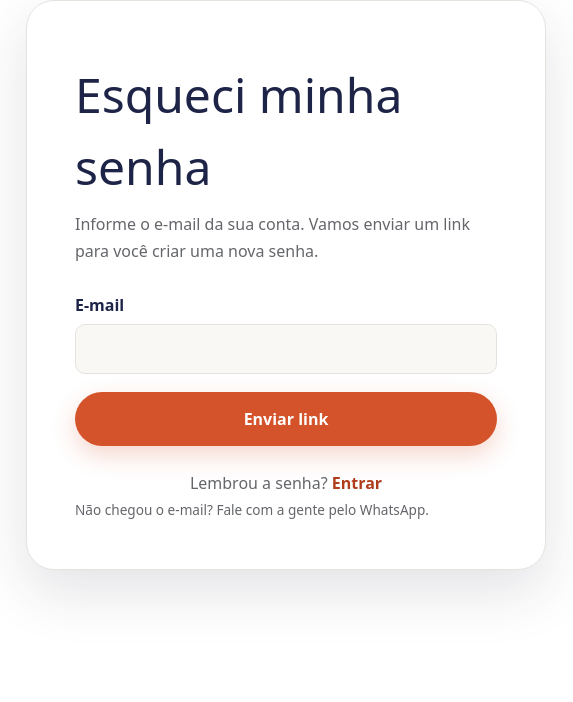
esqueci minha senha › pede o link e mostra a mesma mensagem exista ou não a conta
This screenshot has width=573, height=702.
Type "ana@x.com" into the field labelled "E-mail" at [286, 349], box x1=75 y1=324 x2=497 y2=374
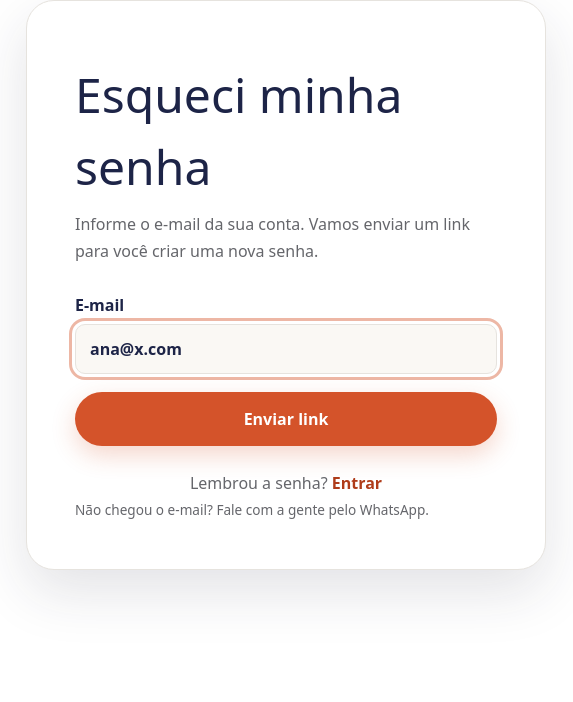
Click the button "Enviar link" at [286, 419], box x1=75 y1=392 x2=497 y2=446
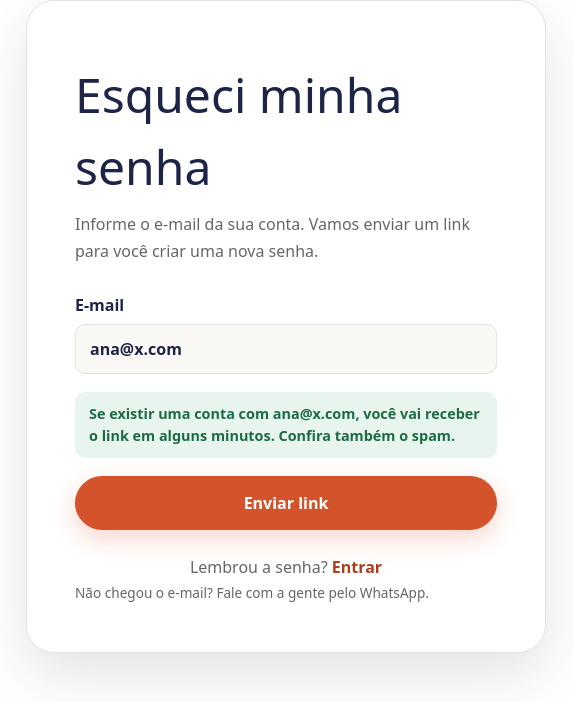
Expected: the message shows "Se existir uma conta com ana@x.com", x1=89 y1=404 x2=480 y2=445
